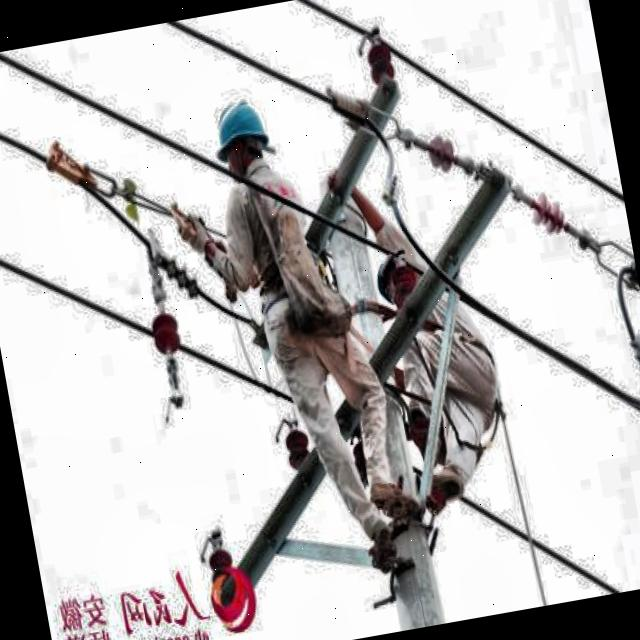helmet: (208, 90, 282, 191)
